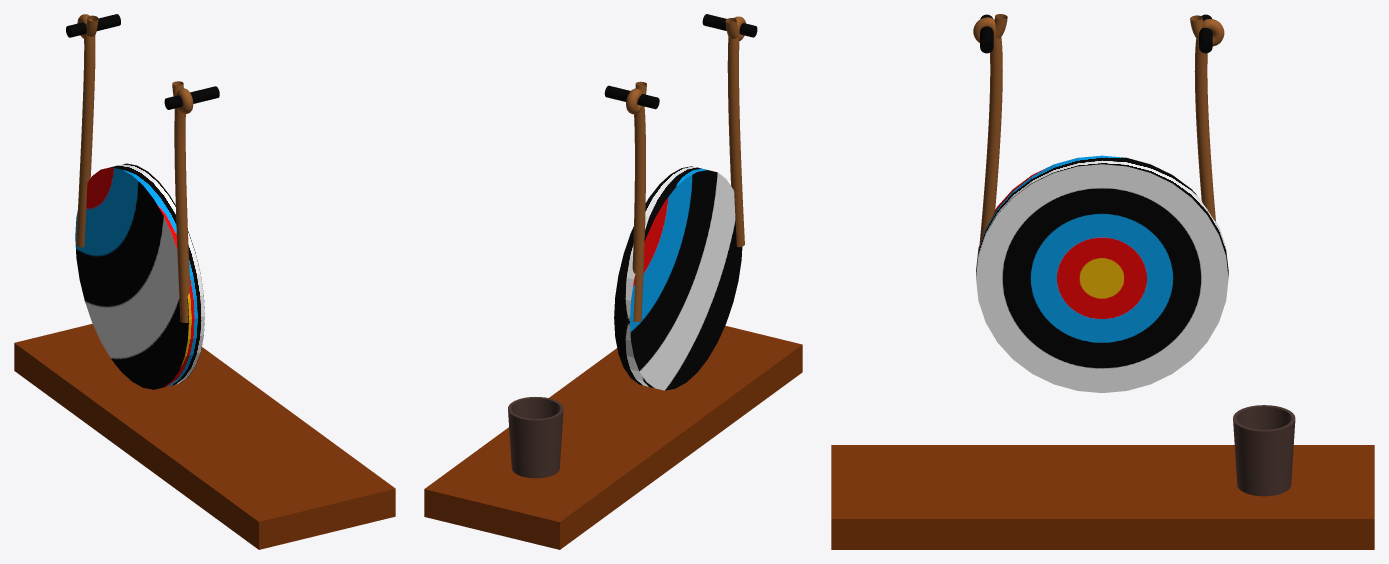
The model's file is pack_bar.glb.
3 renders of one model, left to right at view 1: azimuth 30°, elevation 25°; view 2: azimuth 150°, elevation 25°; view 3: azimuth 270°, elevation 25°, orthographic. The views are drawn at different scales.
Visible parts, largest first — view 1: Cube, Cylinder, NurbsPath, NurbsPath.001, Cylinder.001, Cylinder.002; view 2: Cube, Cylinder, Cylinder.003, NurbsPath.001, NurbsPath, Cylinder.002, Cylinder.001; view 3: Cube, Cylinder, Cylinder.003, NurbsPath, NurbsPath.001.
Boxes of the visible parts, x1,y1,x2,y2 form: Cube: [14, 324, 395, 549]; Cylinder: [75, 163, 204, 389]; NurbsPath: [172, 81, 193, 322]; NurbsPath.001: [76, 14, 98, 247]; Cylinder.001: [164, 86, 219, 109]; Cylinder.002: [66, 14, 120, 37]; Cube: [424, 325, 802, 549]; Cylinder: [614, 166, 742, 390]; Cylinder.003: [508, 397, 563, 478]; NurbsPath.001: [626, 81, 646, 321]; NurbsPath: [725, 16, 745, 247]; Cylinder.002: [604, 85, 659, 109]; Cylinder.001: [702, 14, 757, 37]; Cube: [831, 445, 1374, 549]; Cylinder: [976, 155, 1228, 392]; Cylinder.003: [1233, 405, 1295, 496]; NurbsPath: [973, 14, 1007, 243]; NurbsPath.001: [1190, 15, 1224, 221].
Bounding box in the file's own units: 1.6 × 4 × 4.3.
5 materials, 1 textured.
